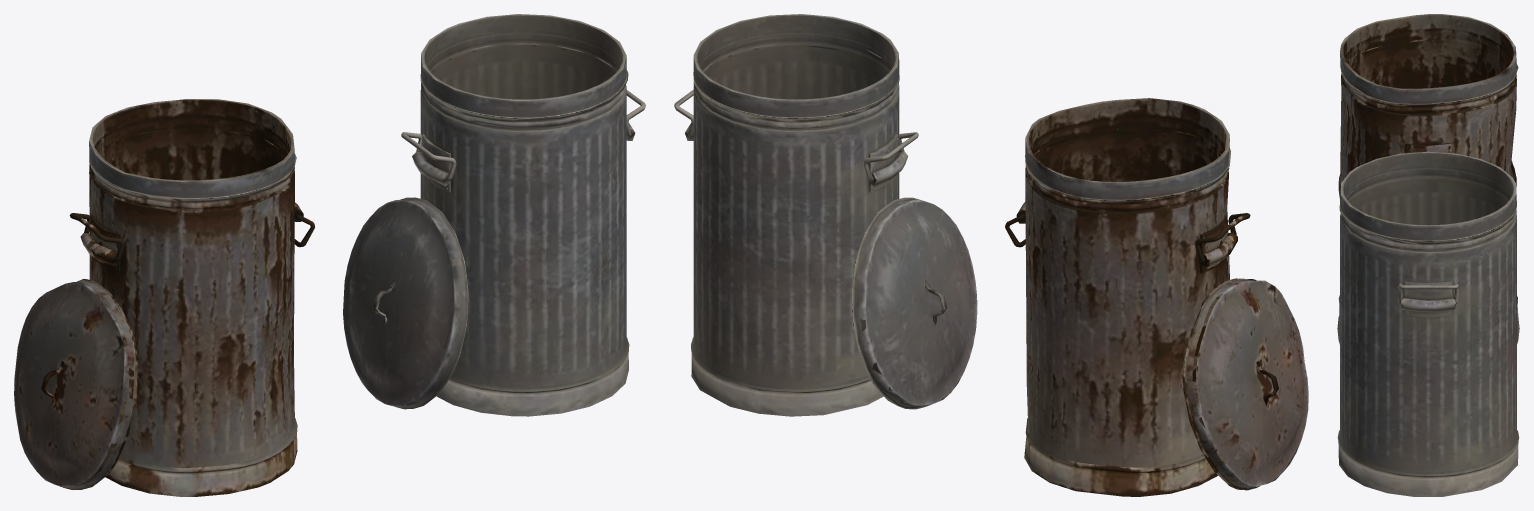
The model's file is metal_trash_can.glb.
3 renders of one model, left to right at view 1: azimuth 30°, elevation 25°; view 2: azimuth 150°, elevation 25°; view 3: azimuth 270°, elevation 25°, orthographic. The views are drawn at different scales.
Parts seen in each view (by area): view 1: metal_trash_can, metal_trash_can_rust, metal_trash_can_lid, metal_trash_can_rust_lid; view 2: metal_trash_can, metal_trash_can_rust, metal_trash_can_lid, metal_trash_can_rust_lid; view 3: metal_trash_can, metal_trash_can_rust, metal_trash_can_handle_right.
Boxes of the visible parts, x1,y1,x2,y2 form: metal_trash_can: [412, 14, 635, 416]; metal_trash_can_rust: [80, 99, 303, 496]; metal_trash_can_lid: [343, 197, 468, 409]; metal_trash_can_rust_lid: [14, 279, 137, 489]; metal_trash_can: [685, 14, 907, 416]; metal_trash_can_rust: [1016, 98, 1237, 496]; metal_trash_can_lid: [851, 197, 977, 409]; metal_trash_can_rust_lid: [1183, 278, 1308, 490]; metal_trash_can: [1337, 151, 1519, 496]; metal_trash_can_rust: [1338, 14, 1518, 316]; metal_trash_can_handle_right: [1398, 283, 1458, 303].
Bounding box in the file's own units: 1.78 × 0.9062 × 0.5543.
2 materials, 2 textured.
